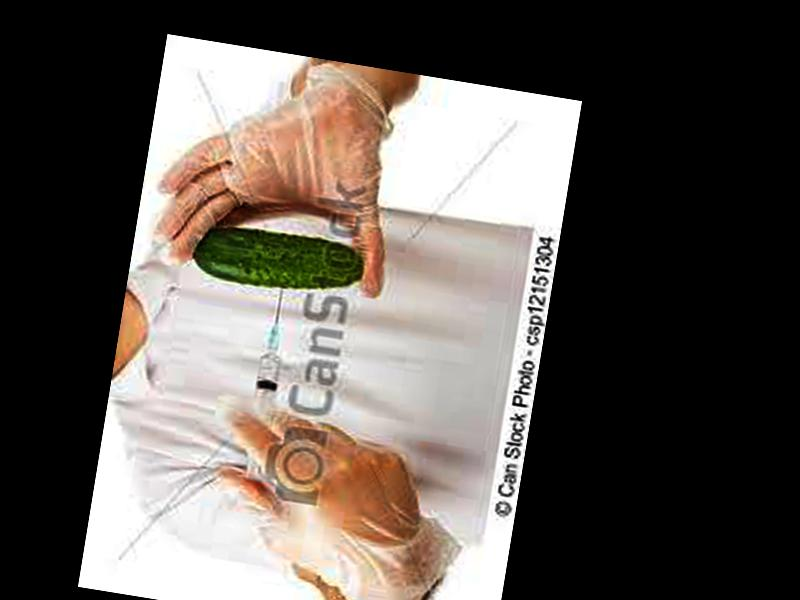Cucumber: (190, 217, 370, 300)
